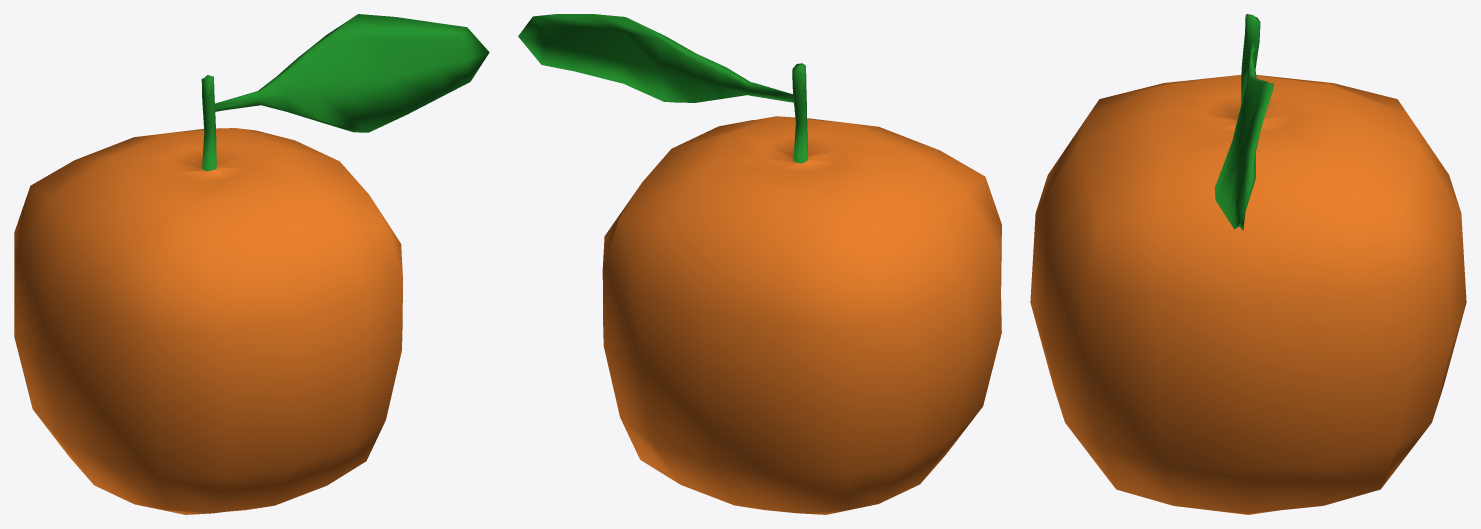
File: Laranja.fbx
3 renders of one model, left to right at view 1: azimuth 30°, elevation 25°; view 2: azimuth 150°, elevation 25°; view 3: azimuth 270°, elevation 25°, orthographic. The views are drawn at different scales.
Visible parts, largest first — view 1: Laranja; view 2: Laranja; view 3: Laranja.
Boxes of the visible parts, x1,y1,x2,y2 form: Laranja: [14, 14, 489, 514]; Laranja: [518, 14, 1001, 514]; Laranja: [1030, 14, 1466, 514].
Bounding box in the file's own units: 30.32 × 27.49 × 22.56.
